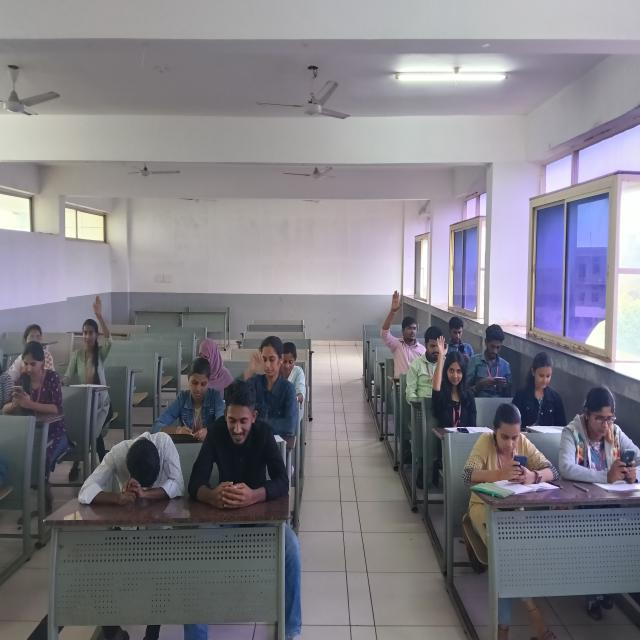Hand Rising: (60, 292, 117, 450), (428, 334, 481, 433), (374, 288, 430, 378)
Sleeping: (73, 396, 181, 632)
Using Phone: (181, 376, 308, 640), (449, 394, 553, 546), (554, 381, 640, 509), (5, 335, 60, 480), (466, 322, 518, 400)
